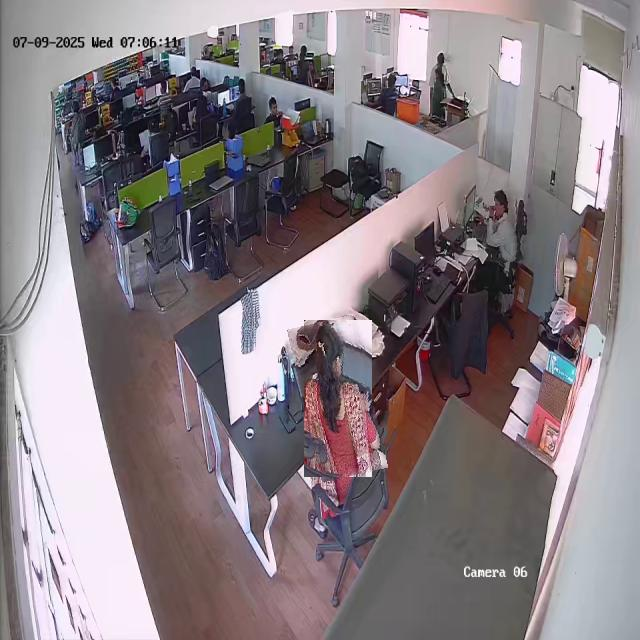person: (296, 317, 380, 480), (485, 188, 522, 264)
